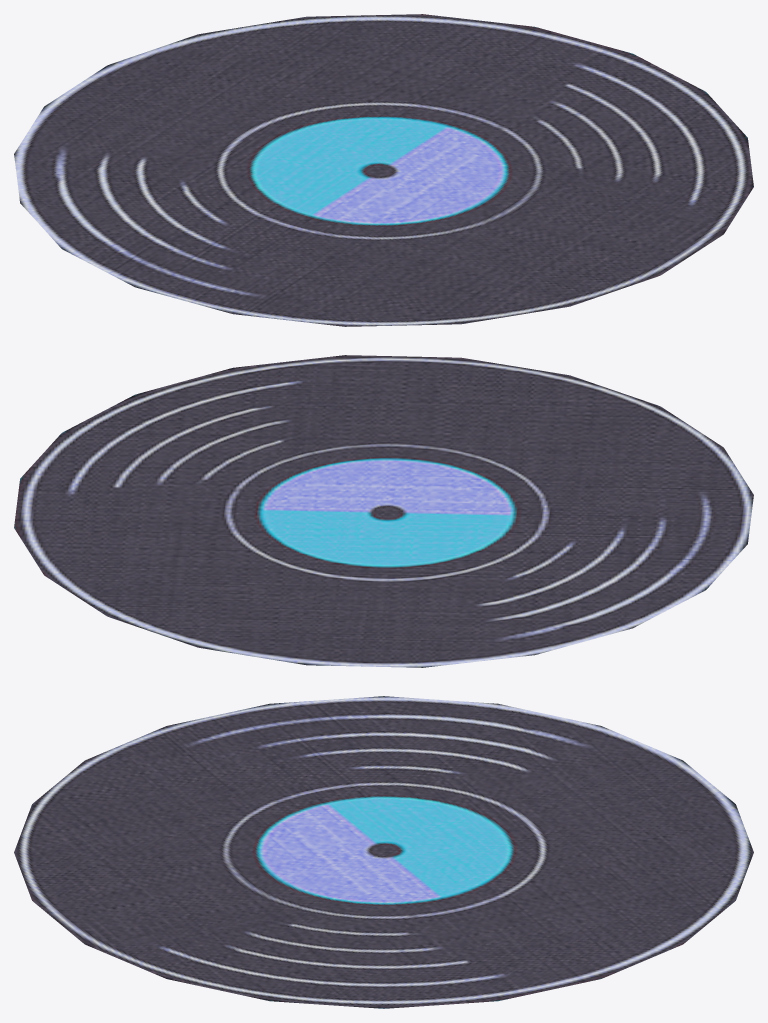
The model's file is Mesh_Item_01_Carpet_03.FBX.
3 renders of one model, top to bottom at view 1: azimuth 30°, elevation 25°; view 2: azimuth 150°, elevation 25°; view 3: azimuth 270°, elevation 25°, orthographic.
Visible parts, largest first — view 1: Mesh_Item_01_Carpet_03; view 2: Mesh_Item_01_Carpet_03; view 3: Mesh_Item_01_Carpet_03.
Boxes of the visible parts, left/top/right/bottom form: Mesh_Item_01_Carpet_03: left=14, top=14, right=753, bottom=326; Mesh_Item_01_Carpet_03: left=14, top=355, right=753, bottom=667; Mesh_Item_01_Carpet_03: left=14, top=696, right=753, bottom=1008.
Bounding box in the file's own units: 2.95 × 1.29e-07 × 2.95.
Materials: 1 (1 with a texture image).
